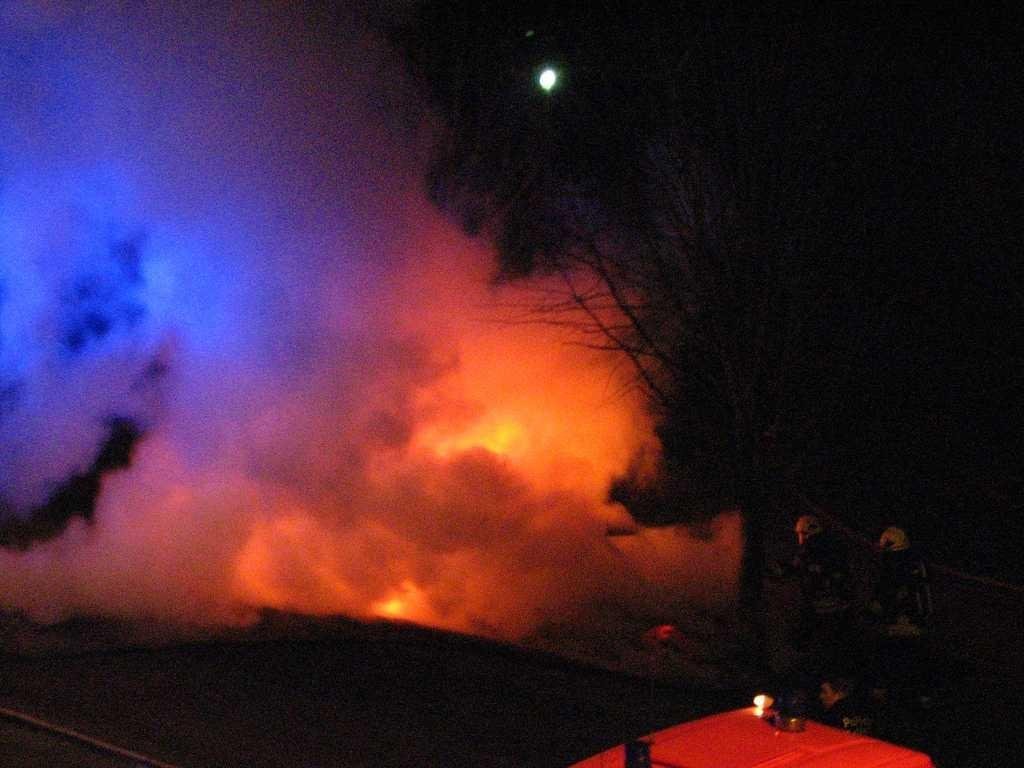fire: (444, 394, 552, 476), (367, 574, 443, 633)
smoke: (40, 161, 399, 415)
